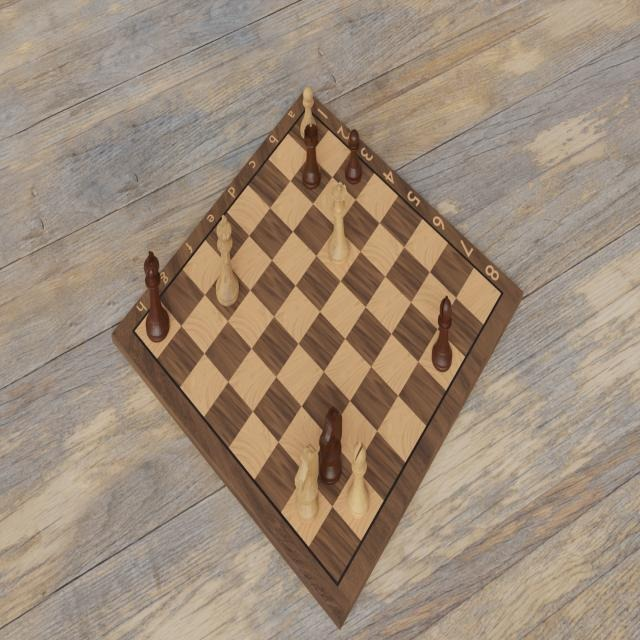black-bishop: (431, 294, 453, 373)
black-king: (142, 249, 169, 342)
black-knight: (319, 407, 343, 485)
black-pawn: (345, 127, 363, 184)
black-rook: (302, 122, 322, 190)
white-bishop: (345, 439, 370, 519)
white-king: (215, 212, 240, 307)
white-knight: (293, 444, 319, 524)
white-pawn: (299, 86, 317, 142)
white-queen: (326, 181, 349, 267)
